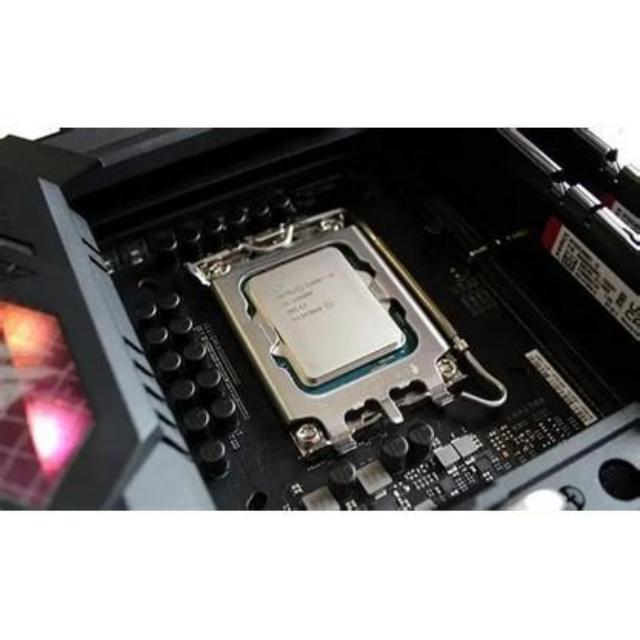CPU: (249, 245, 403, 388)
